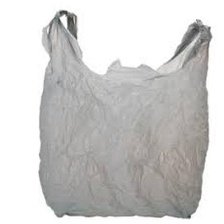plastic_bag: (26, 5, 216, 221)
